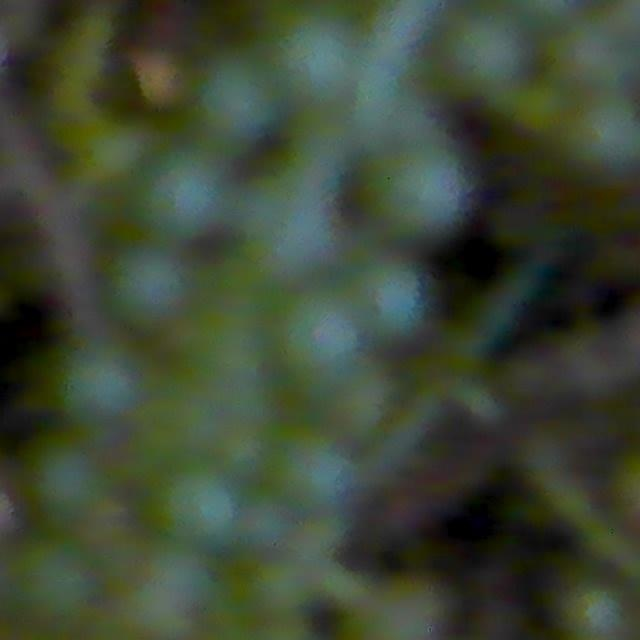SeaGrape: (361, 142, 474, 246), (21, 522, 109, 618), (440, 13, 540, 96), (143, 150, 230, 240), (285, 292, 368, 384), (275, 417, 357, 505), (196, 58, 279, 144), (61, 340, 144, 423), (27, 430, 107, 514), (556, 15, 640, 95), (564, 91, 640, 178), (110, 244, 189, 326), (169, 463, 252, 538), (363, 575, 451, 640), (152, 537, 227, 604), (361, 267, 428, 342), (278, 25, 343, 97), (248, 556, 315, 619), (561, 581, 627, 640), (513, 80, 570, 136), (238, 496, 289, 551)
